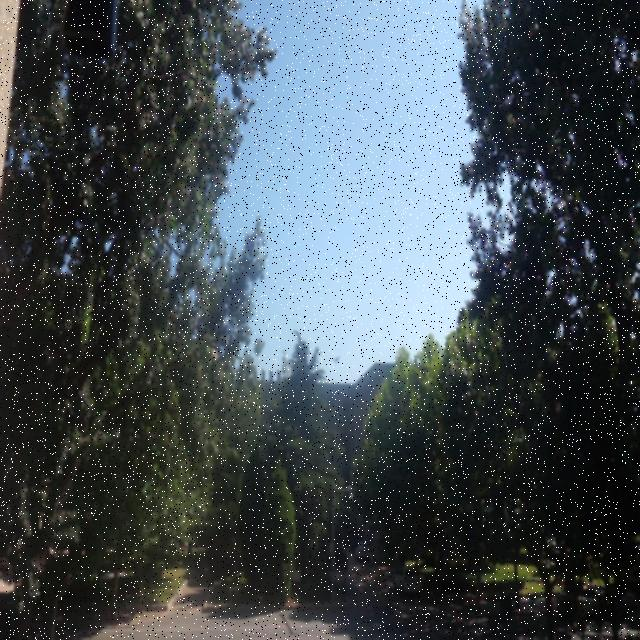UAV: (332, 356, 341, 365)
